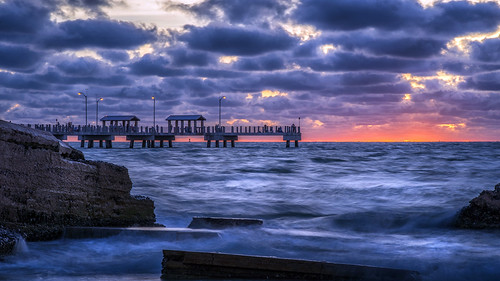bridge: (49, 110, 300, 155)
sea: (125, 140, 500, 266)
sky: (6, 1, 500, 121)
